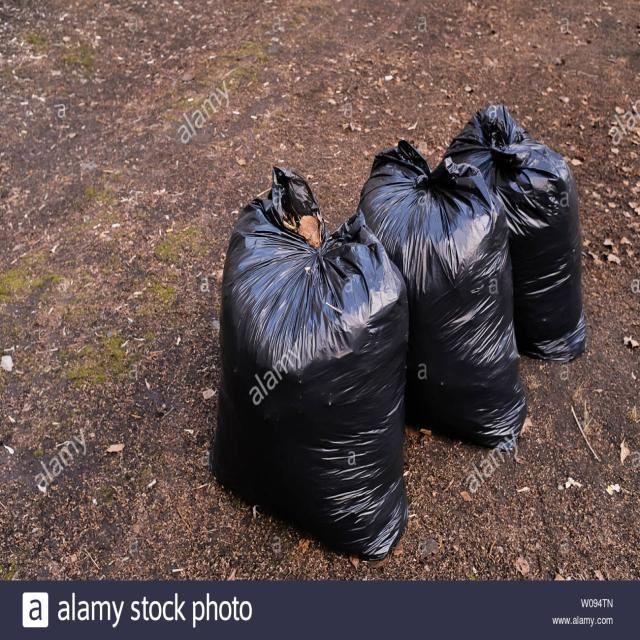garbage: (205, 90, 597, 561)
